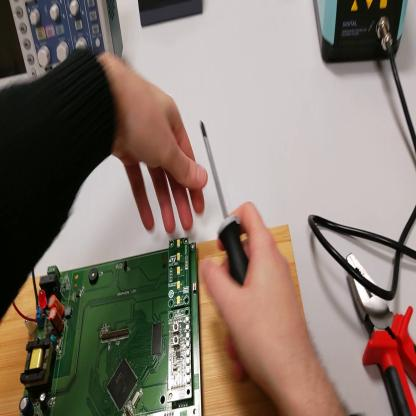hand: (202, 203, 309, 394), (108, 55, 208, 233)
low voltage board: (13, 236, 203, 415)
oscilloscope: (2, 2, 128, 90)
screwdriver-: (201, 122, 252, 287)
welder station: (313, 1, 411, 68)
working area: (2, 225, 310, 415)
